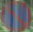No parking: (0, 0, 32, 30)
